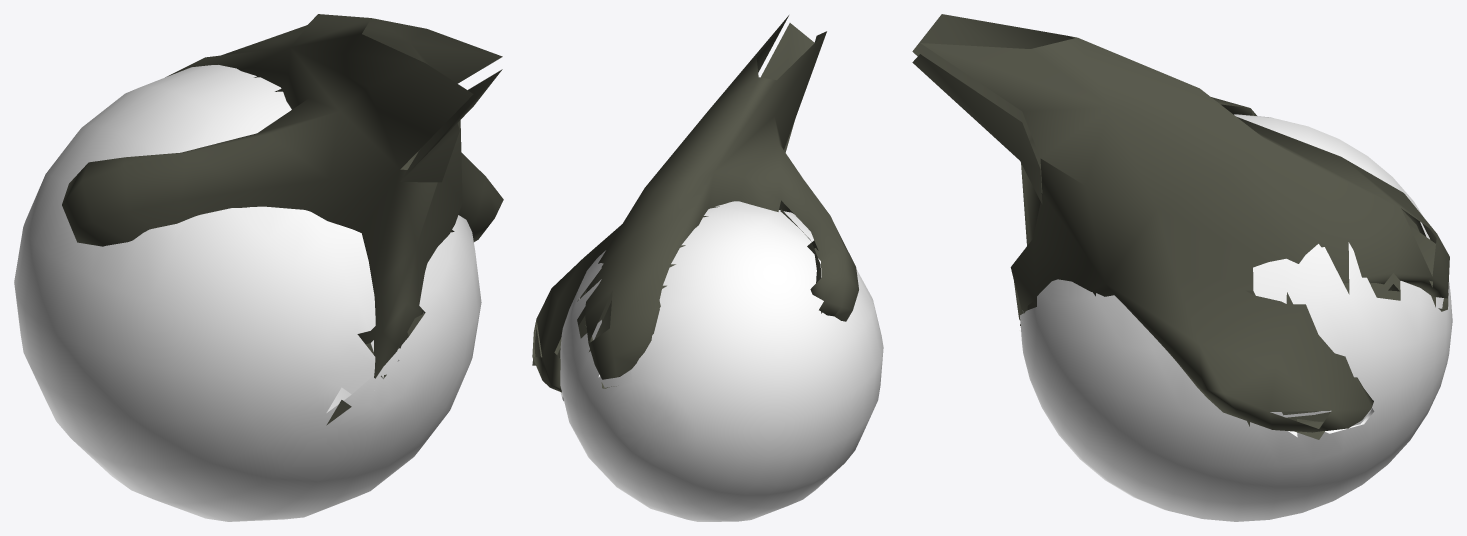
The model's file is foco_pez.obj.
3 views of the same model, side by side, from view 1: azimuth 30°, elevation 25°; view 2: azimuth 150°, elevation 25°; view 3: azimuth 270°, elevation 25° (orthographic). The views are drawn at different scales.
Visible parts, largest first — view 1: pasted__polySurface2_pasted__lambert13_0.002_Material.003; view 2: pasted__polySurface2_pasted__lambert13_0.002_Material.003; view 3: pasted__polySurface2_pasted__lambert13_0.002_Material.003.
Part boxes in pixels (x1,y1,x2,y2): pasted__polySurface2_pasted__lambert13_0.002_Material.003: (14,14,503,521); pasted__polySurface2_pasted__lambert13_0.002_Material.003: (532,15,883,521); pasted__polySurface2_pasted__lambert13_0.002_Material.003: (912,14,1452,521).
Size of the model in its own units: 2.15 by 2.54 by 2.51.
